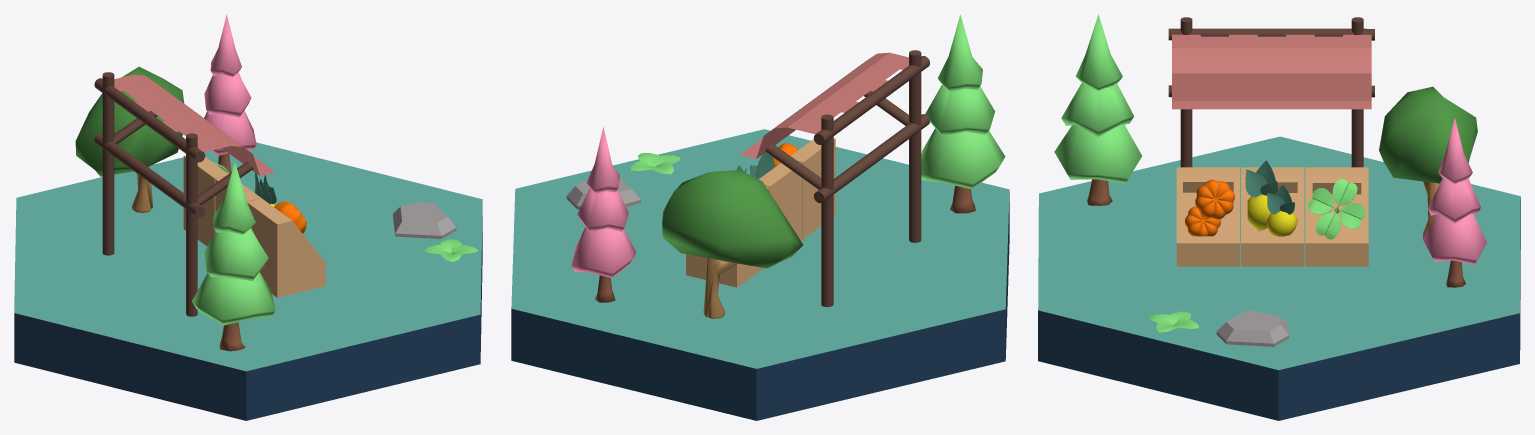
File: Macro - market lv1.fbx
3 views of the same model, side by side, from view 1: azimuth 30°, elevation 25°; view 2: azimuth 150°, elevation 25°; view 3: azimuth 270°, elevation 25° (orthographic). The views are drawn at different scales.
Parts seen in each view (by area): view 1: Cylinder.154, Tree_Spruce_tiny_01.003, tree1 v:88 f:56, Cube.140, Tree_Spruce_tiny_01.008, Plane.112, Cylinder.039, Cylinder.038, Rock Type4 04 mesh.002, Cylinder.041, Cylinder.040, Cube.142 (+3 smaller); view 2: Cylinder.154, tree1 v:88 f:56, Tree_Spruce_tiny_01.003, Tree_Spruce_tiny_01.008, Plane.112, Cylinder.038, Cylinder.039, Cube.141, Cube.140, Cylinder.040, Cylinder.041, Cube.142 (+3 smaller); view 3: Cylinder.154, Plane.112, Tree_Spruce_tiny_01.003, tree1 v:88 f:56, Tree_Spruce_tiny_01.008, Cube.140, Cube.142, Cube.141, Rock Type4 04 mesh.002, Cylinder.040, Sphere.053, Cylinder.039 (+9 smaller).
Boxes of the visible parts, box(x1,y1,x2,y2) form: Cylinder.154: box(14, 142, 482, 420); Tree_Spruce_tiny_01.003: box(192, 162, 275, 351); tree1 v:88 f:56: box(75, 66, 184, 213); Cube.140: box(247, 198, 325, 297); Tree_Spruce_tiny_01.008: box(204, 14, 256, 173); Plane.112: box(114, 74, 275, 175); Cylinder.039: box(102, 72, 114, 255); Cylinder.038: box(186, 133, 197, 316); Rock Type4 04 mesh.002: box(393, 202, 456, 238); Cylinder.041: box(94, 133, 205, 217); Cylinder.040: box(94, 78, 205, 162); Cube.142: box(183, 155, 228, 246); Cylinder.154: box(511, 129, 1009, 420); tree1 v:88 f:56: box(662, 170, 803, 318); Tree_Spruce_tiny_01.003: box(921, 14, 1005, 213); Tree_Spruce_tiny_01.008: box(571, 127, 636, 302); Plane.112: box(740, 52, 908, 158); Cylinder.038: box(909, 50, 921, 242); Cylinder.039: box(821, 114, 833, 306); Cube.141: box(759, 162, 802, 240); Cube.140: box(791, 138, 835, 238); Cylinder.040: box(813, 56, 929, 144); Cylinder.041: box(813, 114, 929, 203); Cube.142: box(686, 186, 769, 287); Cylinder.154: box(1038, 136, 1520, 420); Plane.112: box(1172, 34, 1371, 109); Tree_Spruce_tiny_01.003: box(1054, 14, 1141, 205); tree1 v:88 f:56: box(1379, 86, 1477, 237); Tree_Spruce_tiny_01.008: box(1422, 118, 1486, 287); Cube.140: box(1176, 167, 1239, 266); Cube.142: box(1305, 167, 1368, 266); Cube.141: box(1241, 167, 1304, 266); Rock Type4 04 mesh.002: box(1216, 310, 1289, 346); Cylinder.040: box(1168, 28, 1374, 40); Sphere.053: box(1195, 179, 1234, 219); Cylinder.039: box(1351, 17, 1363, 167).
Size of the model in its own units: 197 by 94.23 by 172.
